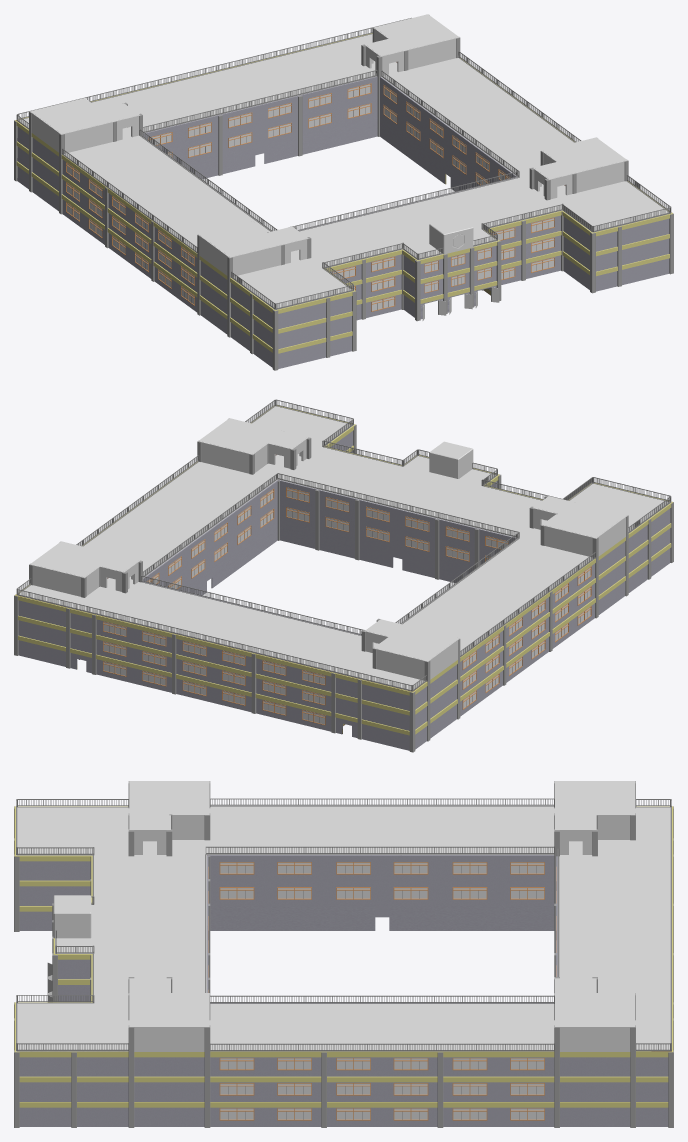
Rendered from SchoolTest2.fbx.
3 views of the same model, one above another, from view 1: azimuth 30°, elevation 25°; view 2: azimuth 150°, elevation 25°; view 3: azimuth 270°, elevation 25° (orthographic). The views are drawn at different scales.
Visible parts, largest first — view 1: Floor.003, SchoolA.005, SchoolA, SchoolA.004, Cube.007, Cube.010, Cube.008, Build.002, Build.003, Ceiling, Ceiling.003, Ceiling.001 (+7 smaller); view 2: Floor.003, SchoolA.005, SchoolA, SchoolA.004, Cube.010, Cube.007, Cube.008, Build.001, Build, Build.003, Build.002, Ceiling.001 (+7 smaller); view 3: Floor.003, SchoolA.005, SchoolA, SchoolA.004, Cube.010, Cube.007, Ceiling.001, Ceiling.002, Ceiling, Ceiling.003, Cube.006, Cube.005 (+9 smaller).
Part boxes in pixels (box(x1,y1,x2,y2)): Floor.003: box(19, 34, 668, 309); SchoolA.005: box(15, 33, 672, 329); SchoolA: box(16, 116, 669, 368); SchoolA.004: box(16, 97, 669, 349); Cube.007: box(231, 174, 671, 309); Cube.010: box(139, 70, 519, 231); Cube.008: box(16, 17, 411, 129); Build.002: box(198, 221, 308, 276); Build.003: box(30, 98, 140, 153); Ceiling: box(366, 15, 457, 55); Ceiling.003: box(31, 98, 138, 133); Ceiling.001: box(534, 138, 626, 178); Floor.003: box(19, 406, 668, 691); SchoolA.005: box(15, 405, 672, 710); SchoolA: box(18, 520, 671, 750); SchoolA.004: box(18, 445, 671, 730); Cube.010: box(143, 473, 519, 624); Cube.007: box(245, 399, 671, 532); Cube.008: box(16, 578, 426, 691); Build.001: box(198, 418, 308, 473); Build: box(30, 541, 139, 596); Build.003: box(364, 619, 459, 680); Build.002: box(533, 496, 627, 556); Ceiling.001: box(199, 418, 306, 453); Floor.003: box(16, 807, 670, 1049); SchoolA.005: box(14, 806, 673, 1076); SchoolA: box(19, 906, 668, 1126); SchoolA.004: box(19, 880, 668, 1101); Cube.010: box(205, 846, 554, 1003); Cube.007: box(16, 799, 128, 1051); Ceiling.001: box(130, 978, 208, 1026); Ceiling.002: box(130, 781, 208, 829); Ceiling: box(556, 978, 633, 1026); Ceiling.003: box(556, 781, 633, 829); Cube.006: box(210, 798, 554, 806); Cube.005: box(210, 1043, 554, 1051).
Size of the model in its own units: 8403 by 1601 by 9508.
